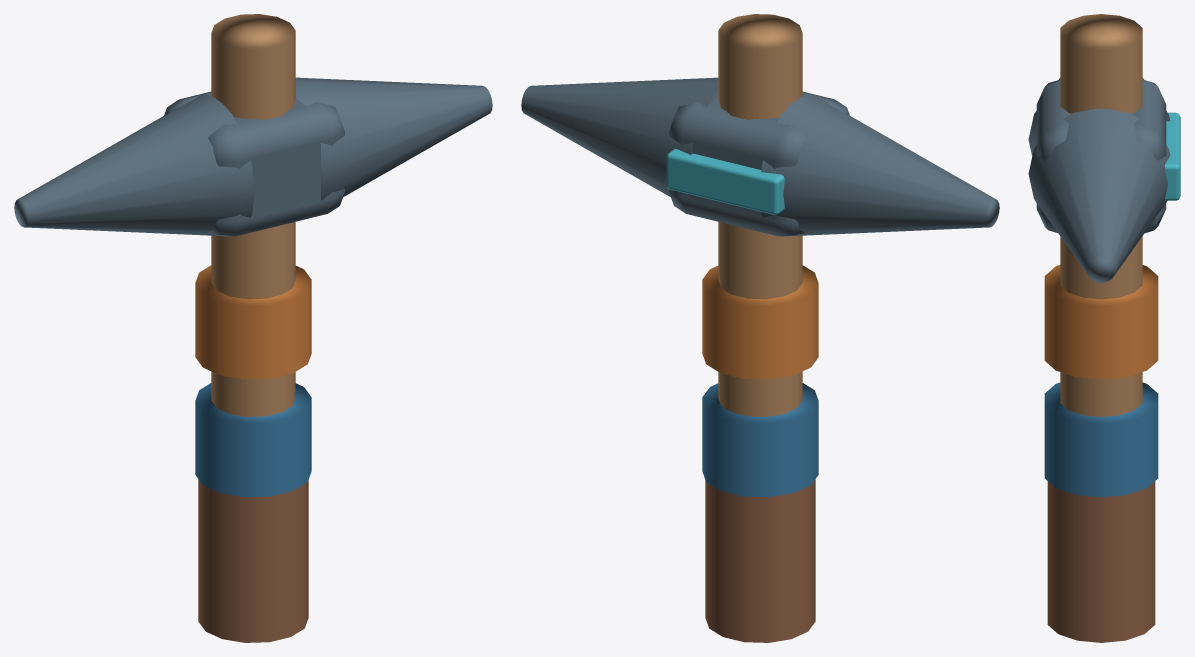
The model's file is pickaxe.glb.
The picture shows the model from 3 angles, left to right: view 1: azimuth 30°, elevation 25°; view 2: azimuth 150°, elevation 25°; view 3: azimuth 270°, elevation 25°; orthographic projection.
Parts seen in each view (by area): view 1: t09_harvest_pickaxe; view 2: t09_harvest_pickaxe; view 3: t09_harvest_pickaxe.
Part boxes in pixels (<box>): t09_harvest_pickaxe: <box>14,14,492,642</box>; t09_harvest_pickaxe: <box>521,14,999,642</box>; t09_harvest_pickaxe: <box>1028,14,1180,642</box>.
Bounding box in the file's own units: 0.66 × 0.8 × 0.1875.
